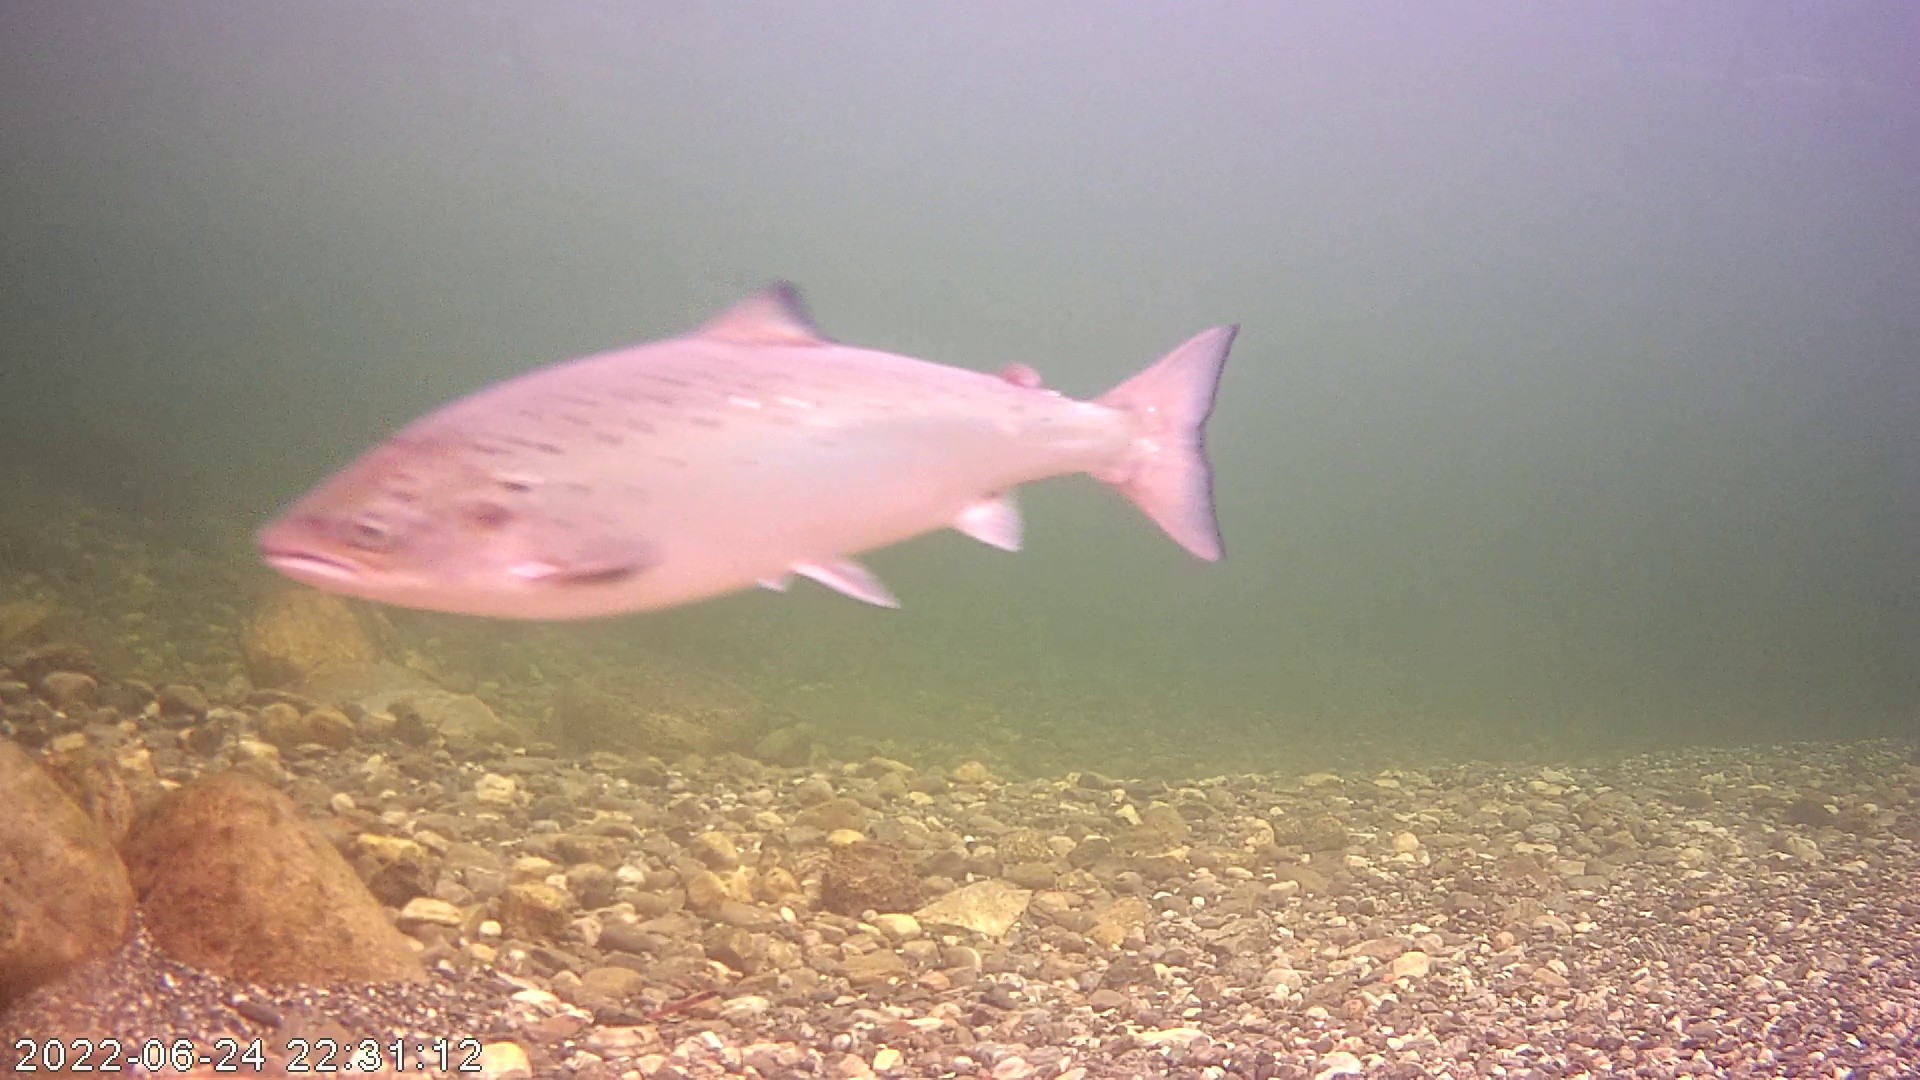salmon: (251, 276, 1244, 622)
